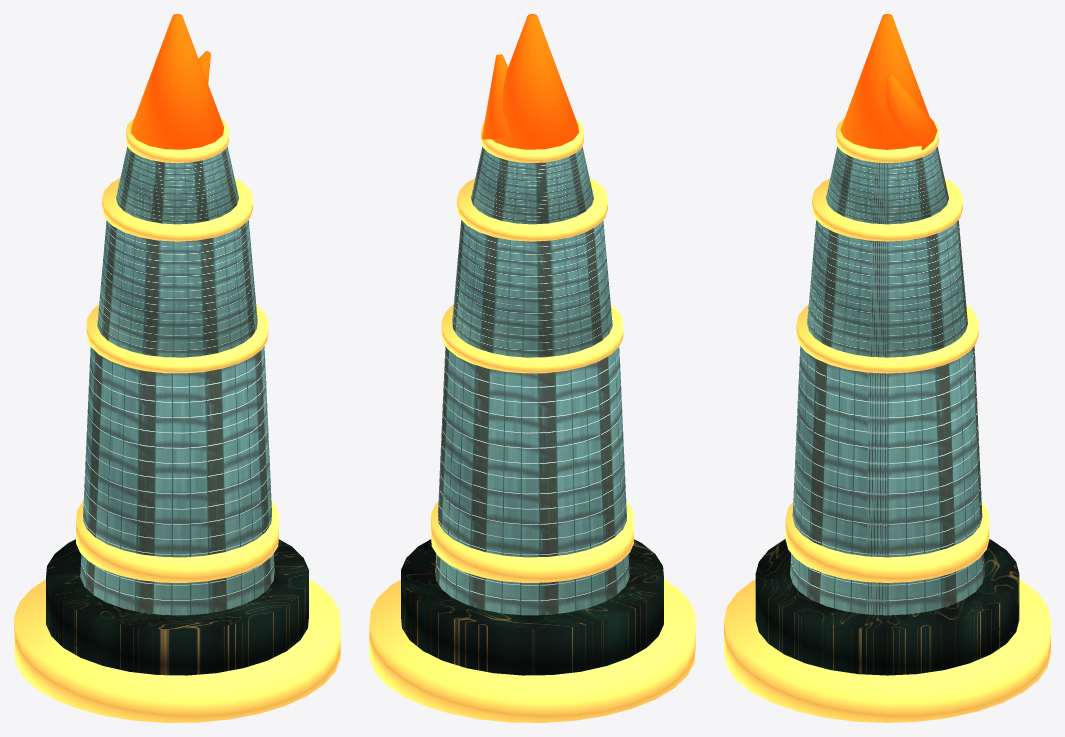
The model's file is prize_tower.glb.
3 renders of one model, left to right at view 1: azimuth 30°, elevation 25°; view 2: azimuth 150°, elevation 25°; view 3: azimuth 270°, elevation 25°, orthographic.
Parts seen in each view (by area): view 1: PRIZE_tower; view 2: PRIZE_tower; view 3: PRIZE_tower.
Boxes of the visible parts, <box> form: PRIZE_tower: <box>14,14,340,722</box>; PRIZE_tower: <box>369,14,695,722</box>; PRIZE_tower: <box>724,14,1050,722</box>.
Bounding box in the file's own units: 0.052 × 0.112 × 0.052.
Materials: 5 (2 with a texture image).
